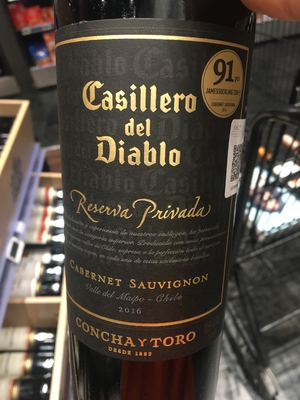casillero del diablo reserva privada cabernet sauvignon: (53, 7, 257, 400)
